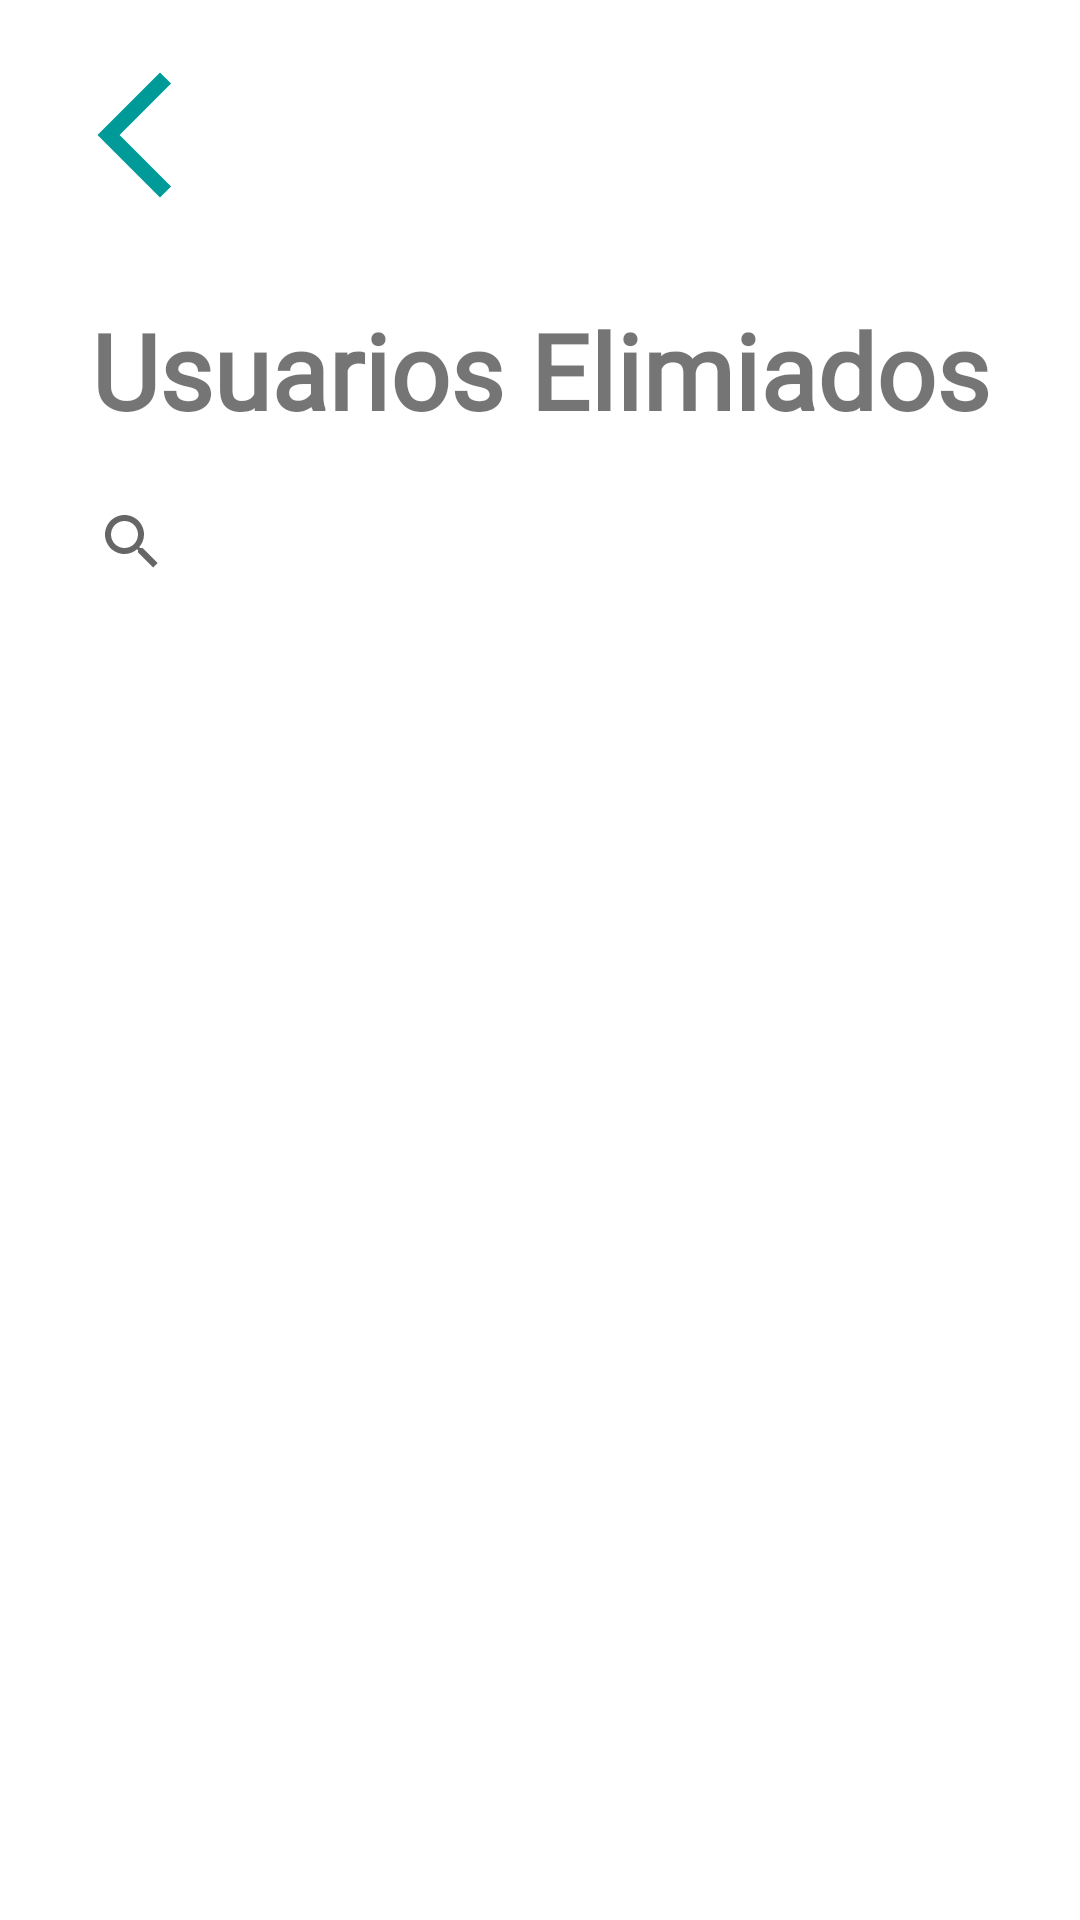

Where icons sit on this 1080 × 1920 app screen, as [x1, y1, x2, y2]:
arrow back: [97, 72, 171, 198]
